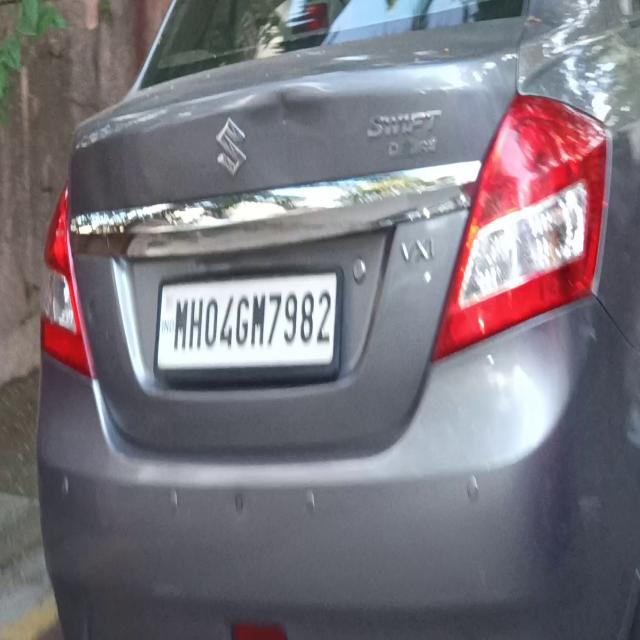Plate: (157, 272, 337, 368)
